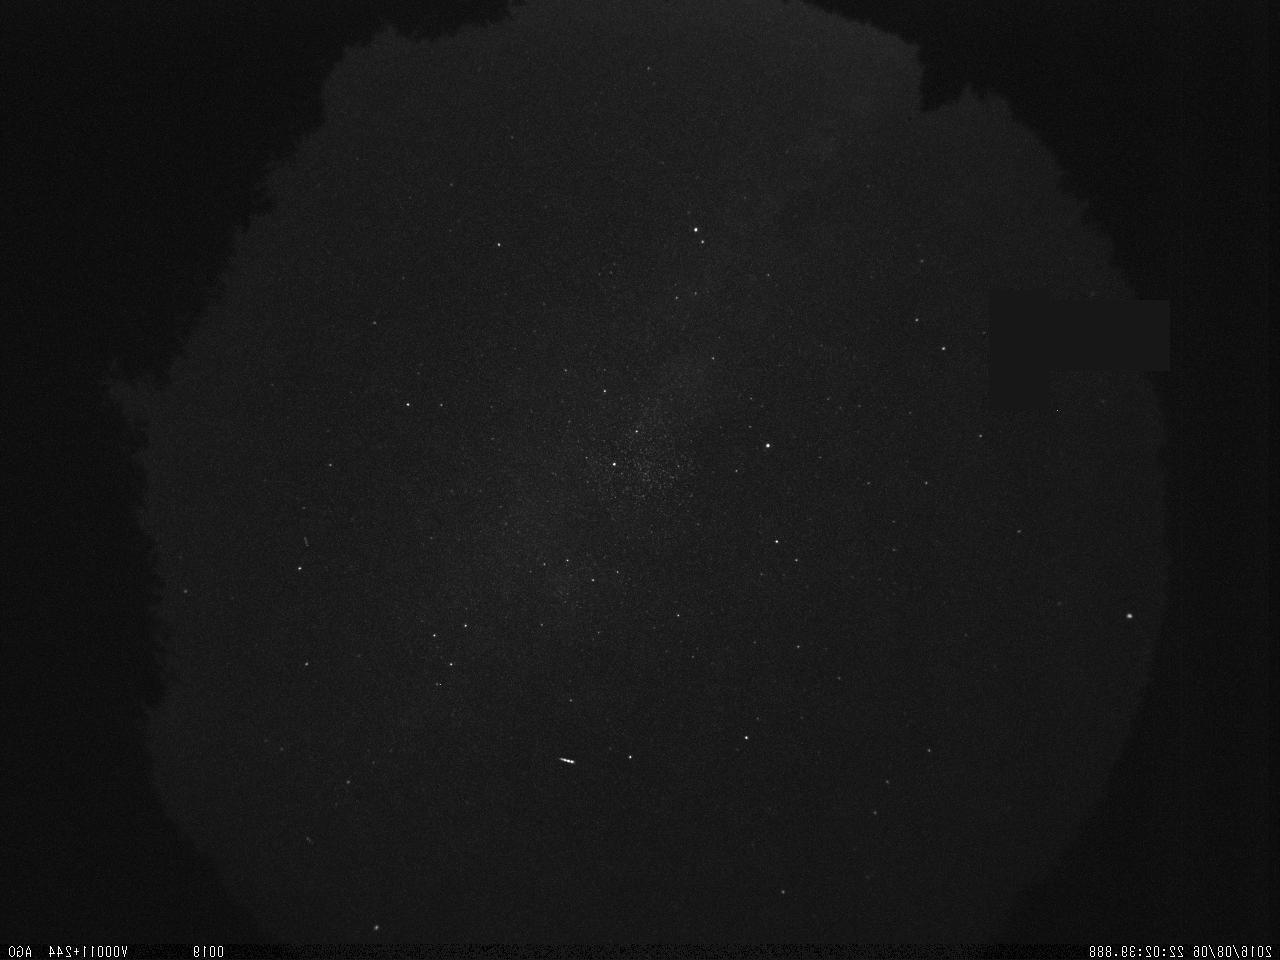meteor: (550, 750, 581, 770)
